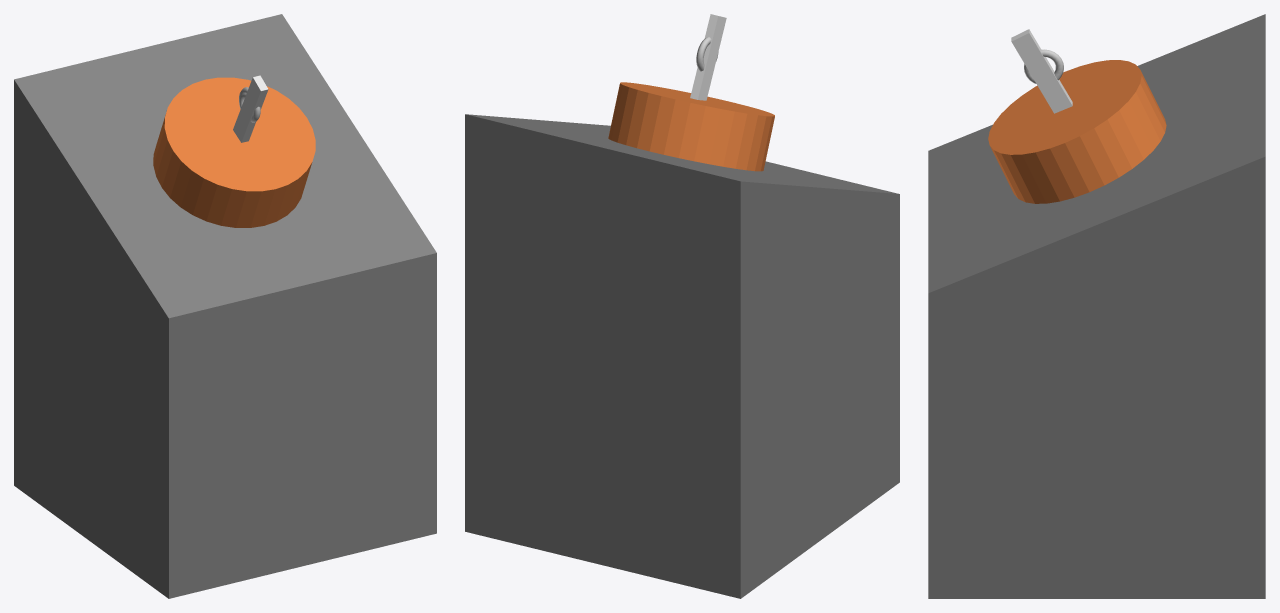
File: key switch.glb
The picture shows the model from 3 angles, left to right: view 1: azimuth 30°, elevation 25°; view 2: azimuth 150°, elevation 25°; view 3: azimuth 270°, elevation 25°; orthographic projection. The views are drawn at different scales.
Visible parts, largest first — view 1: Cube, Cylinder, Cube.001; view 2: Cube, Cylinder, Cube.001; view 3: Cube, Cylinder, Cube.001.
Boxes of the visible parts, x1=… form: Cube: x1=14, y1=14, x2=436, y2=598; Cylinder: x1=153, y1=77, x2=315, y2=227; Cube.001: x1=233, y1=75, x2=268, y2=142; Cube: x1=465, y1=114, x2=899, y2=598; Cylinder: x1=608, y1=82, x2=774, y2=171; Cube.001: x1=690, y1=14, x2=726, y2=100; Cube: x1=928, y1=14, x2=1265, y2=598; Cylinder: x1=988, y1=60, x2=1166, y2=203; Cube.001: x1=1011, y1=29, x2=1072, y2=113.
Size of the model in its own units: 2 by 3.25 by 2.
